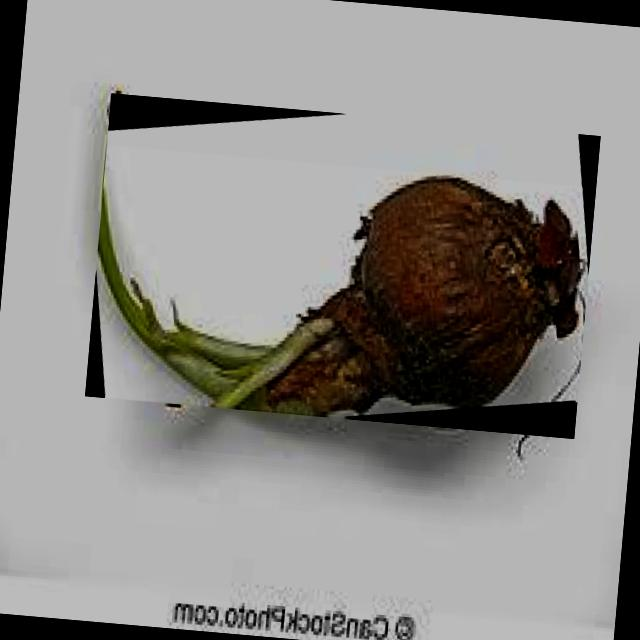rotten: (98, 170, 587, 410)
